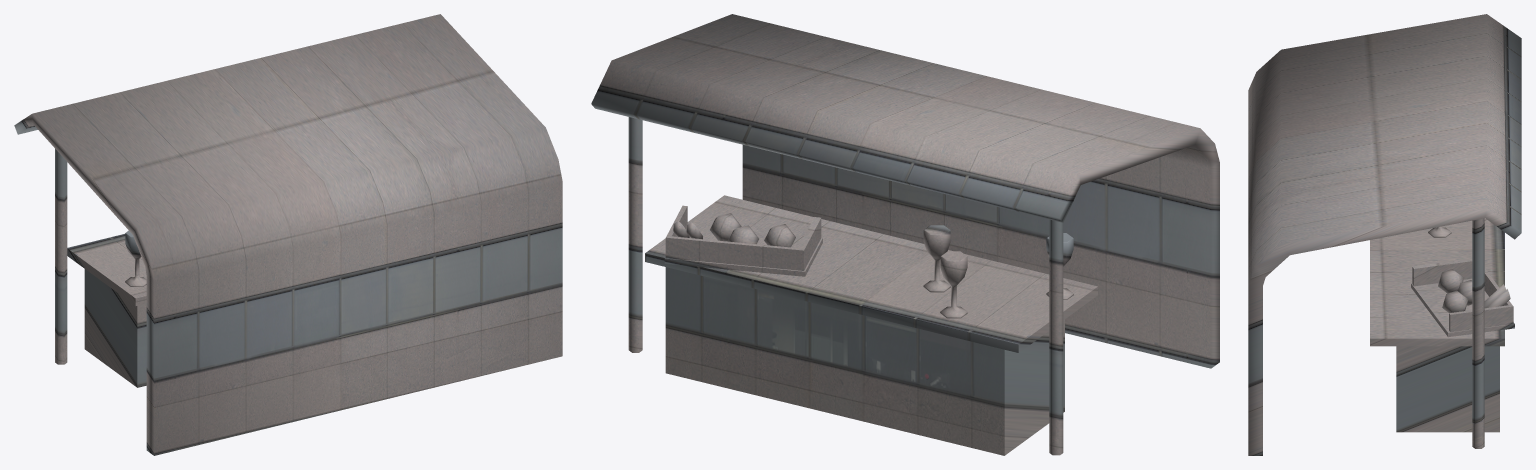
The model's file is stall2.obj.
3 views of the same model, side by side, from view 1: azimuth 30°, elevation 25°; view 2: azimuth 150°, elevation 25°; view 3: azimuth 270°, elevation 25° (orthographic). The views are drawn at different scales.
Visible parts, largest first — view 1: Cube; view 2: Cube; view 3: Cube.
Boxes of the visible parts, x1,y1,x2,y2 form: Cube: (14, 14, 562, 455); Cube: (591, 14, 1219, 455); Cube: (1248, 14, 1521, 455).
Size of the model in its own units: 8.92 by 5.32 by 5.29.
